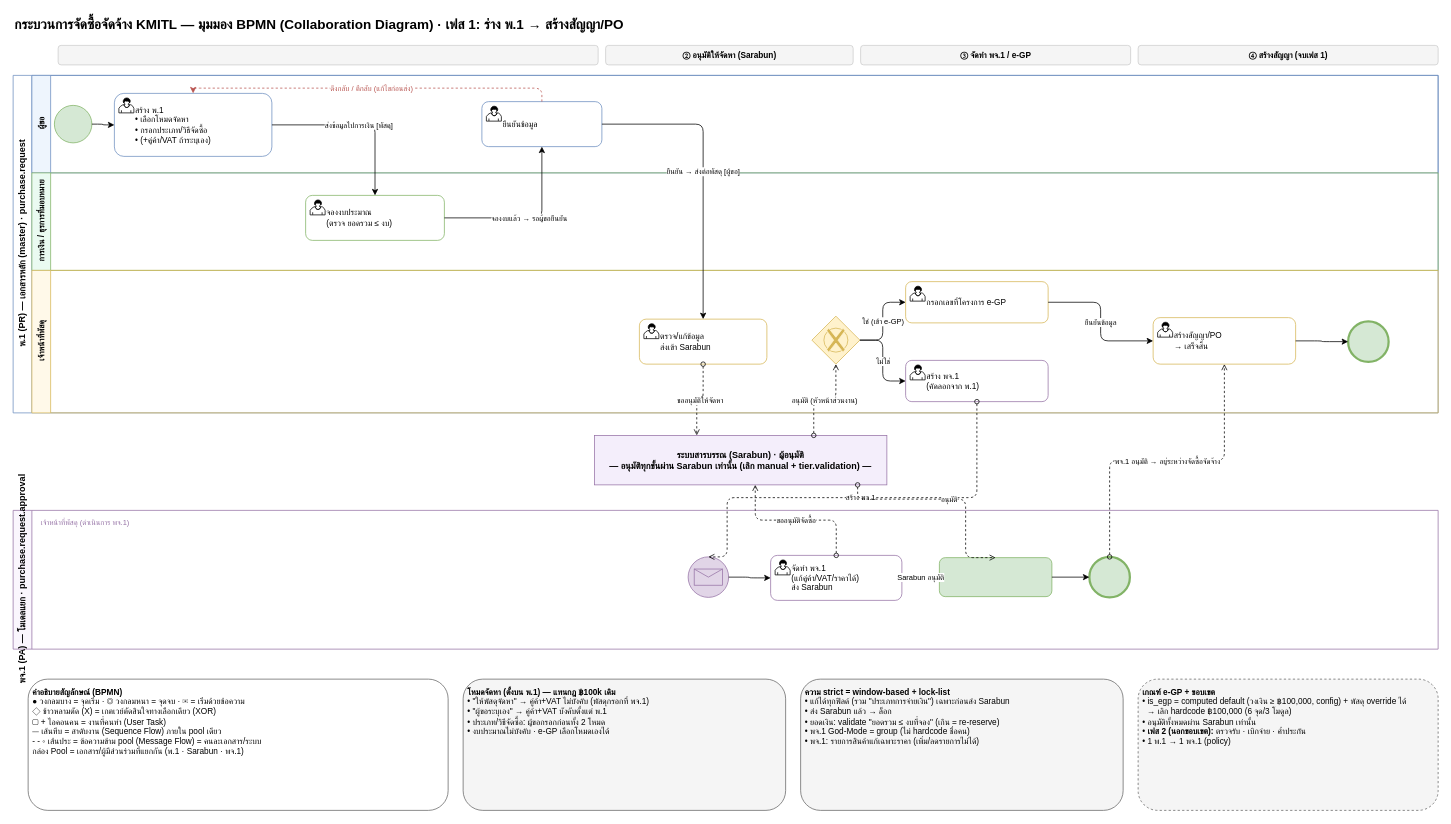
Some shapes in this 1451 by 824 pixel diagram are drawn without their labels. Each missing label, with the centre of its shape:
e-GP ?: the point at 835,339
จบเฟส 1: the point at 1368,341
พจ.1 อนุมัติ: the point at 1109,576
ร่าง พจ.1 (รับจาก พ.1): the point at 708,576
อนุมัติแล้ว: the point at 995,577
เริ่ม: the point at 73,124
① เตรียมเรื่อง — แก้ไขได้ทุกฟิลด์ก่อนส่ง Sarabun: the point at 327,55
